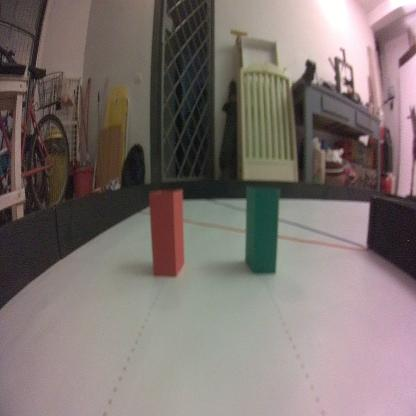green: (244, 181, 280, 275)
red: (147, 185, 188, 281)
